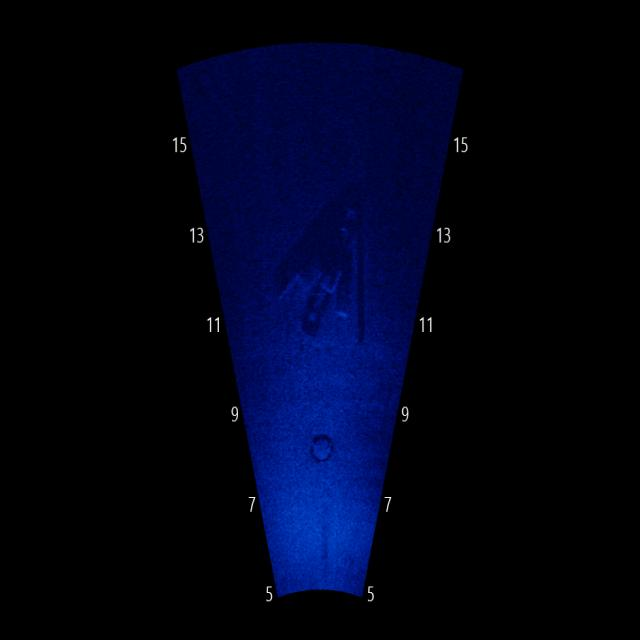triangle: (276, 178, 379, 350)
